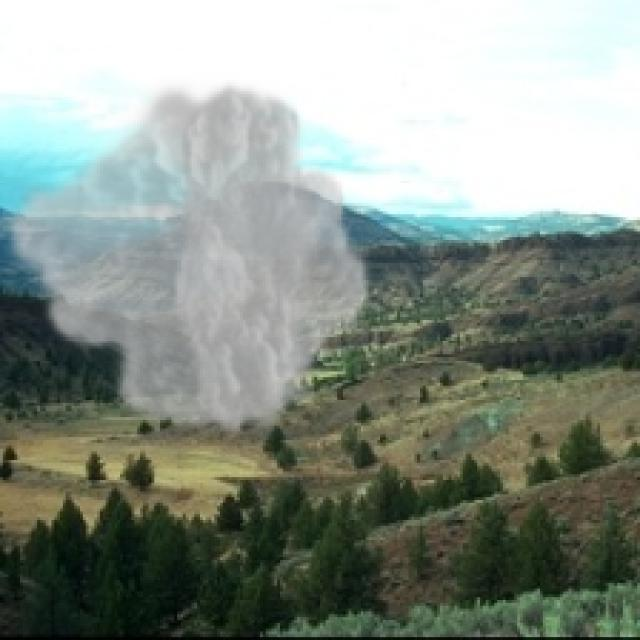Smoke: (0, 74, 375, 443)
